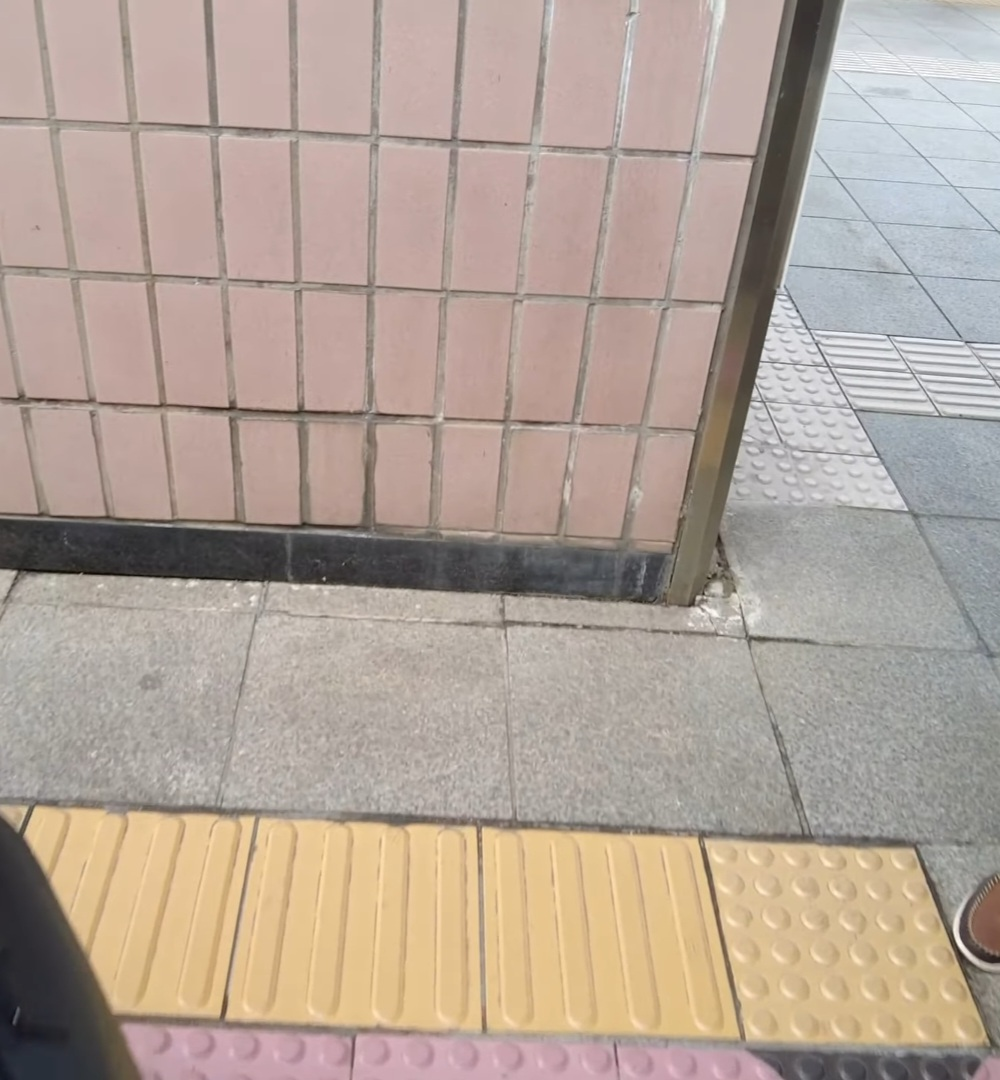guideBlock: (473, 817, 734, 1030), (244, 815, 492, 1027), (41, 825, 247, 1018)
warningBlock: (705, 827, 944, 1028)
